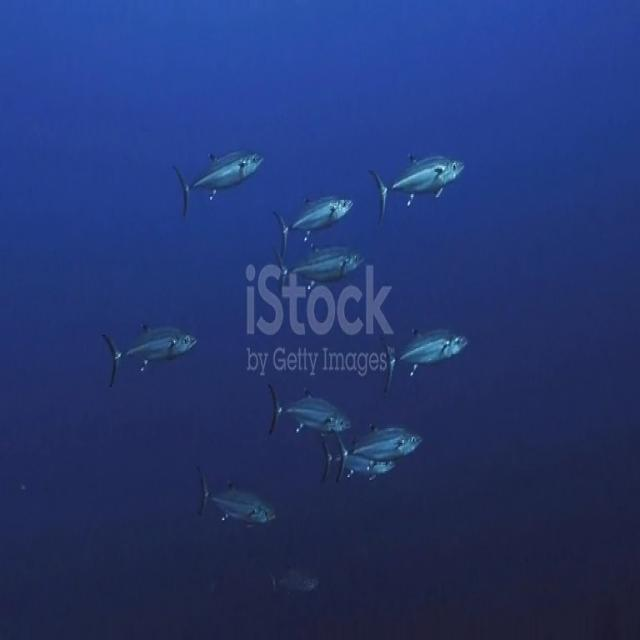fish: (368, 149, 473, 221), (319, 420, 425, 486), (103, 321, 197, 391), (195, 465, 284, 537), (173, 151, 263, 220), (380, 326, 470, 391), (268, 374, 352, 442), (276, 240, 365, 299), (275, 186, 355, 250)
